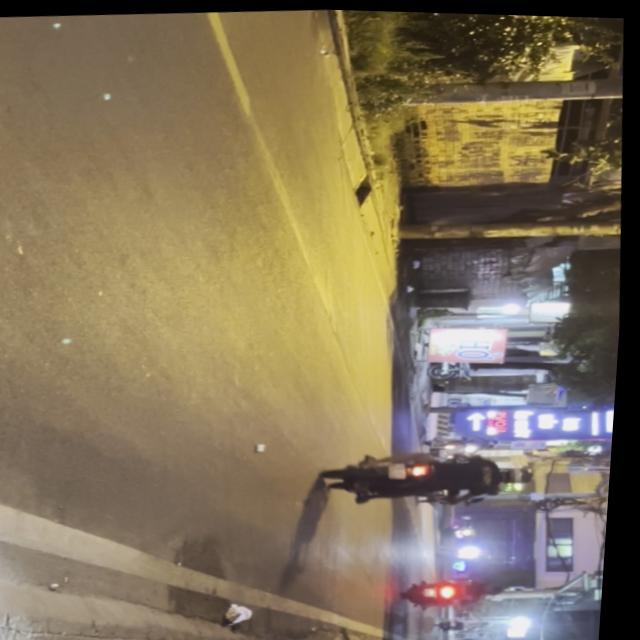helmet: (509, 459, 542, 480)
licenseplate: (327, 437, 546, 509)
nohelmet: (396, 458, 415, 476)
